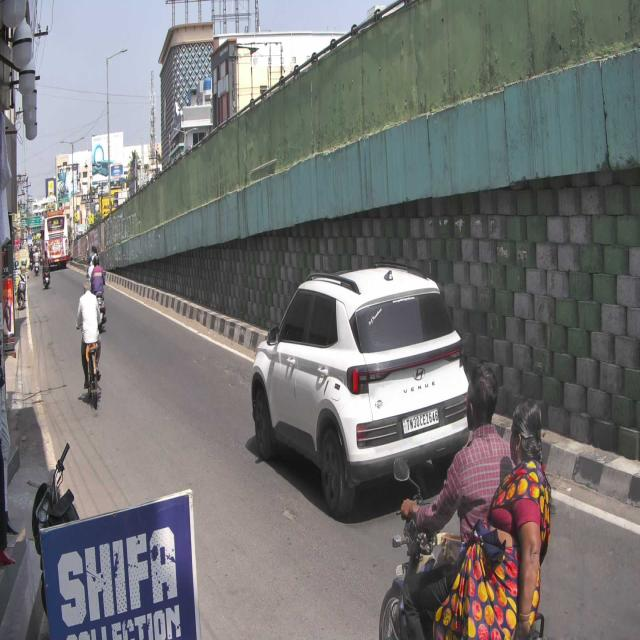double_rider: (378, 356, 553, 640)
